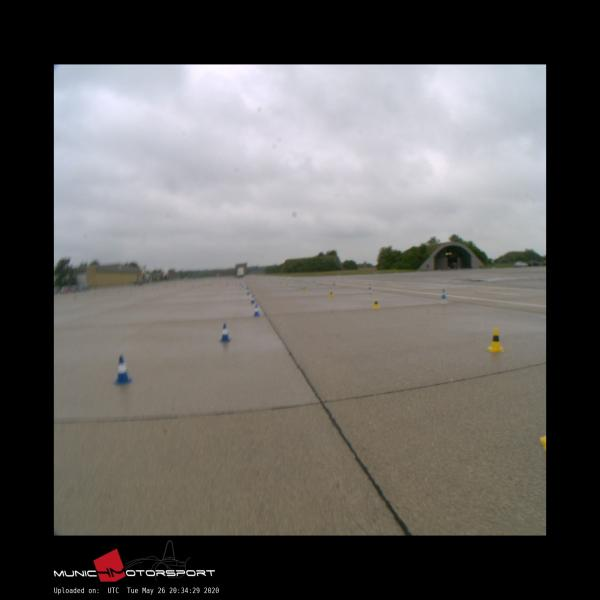blue_cone: (113, 356, 130, 384), (219, 323, 230, 342), (252, 304, 259, 316)
yellow_cone: (487, 326, 503, 351), (373, 298, 379, 308)
